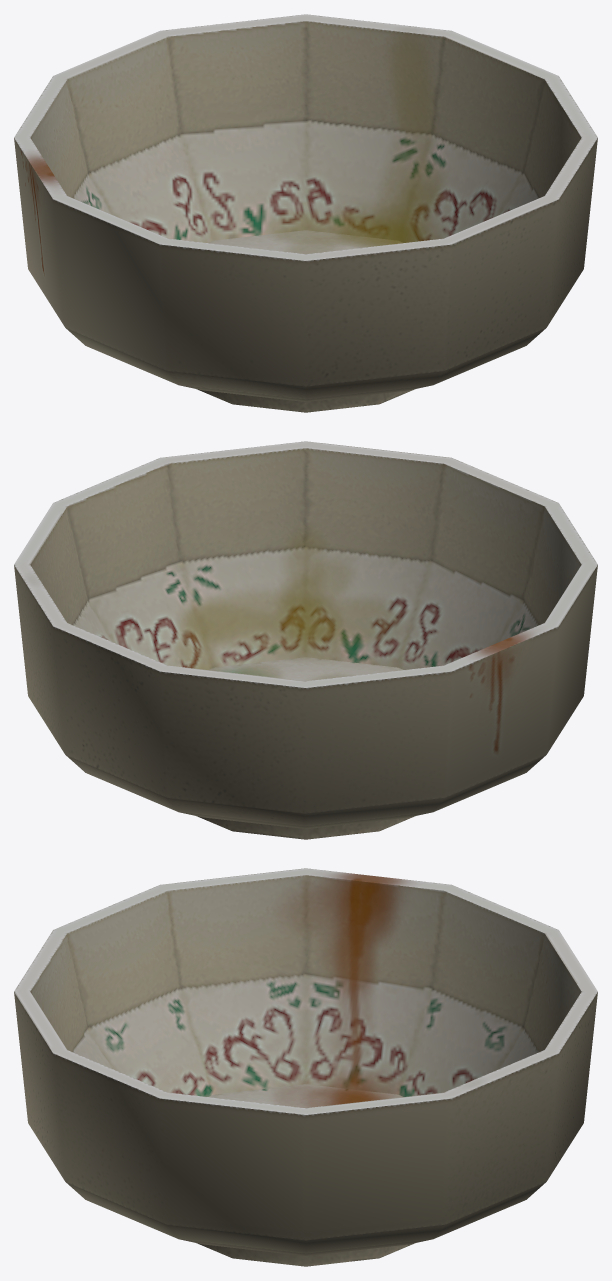
Rendered from PROP_106_Bowl.fbx.
The picture shows the model from 3 angles, top to bottom: view 1: azimuth 30°, elevation 25°; view 2: azimuth 150°, elevation 25°; view 3: azimuth 270°, elevation 25°; orthographic projection.
Visible parts, largest first — view 1: Bol.001; view 2: Bol.001; view 3: Bol.001.
Boxes of the visible parts, x1,y1,x2,y2 form: Bol.001: (14,14,597,412); Bol.001: (14,441,597,839); Bol.001: (14,868,597,1266).
Bounding box in the file's own units: 0.4443 × 0.1787 × 0.4443.
Materials: 1 (1 with a texture image).
